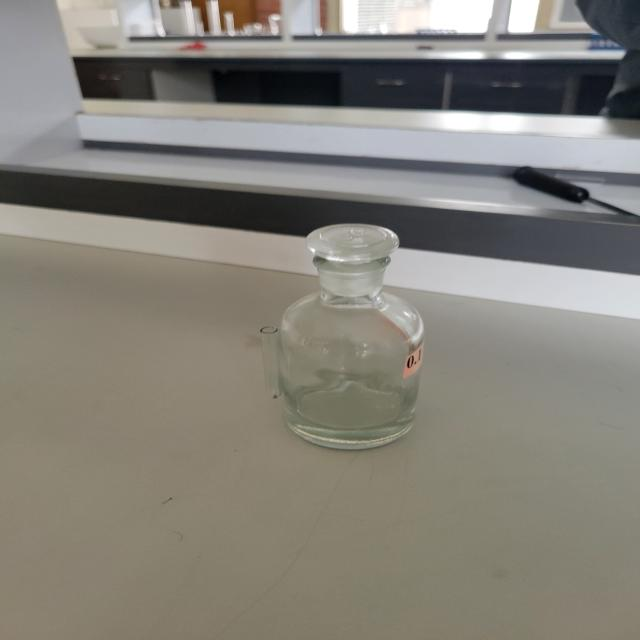Reagent_Bottle: (185, 180, 463, 476)
